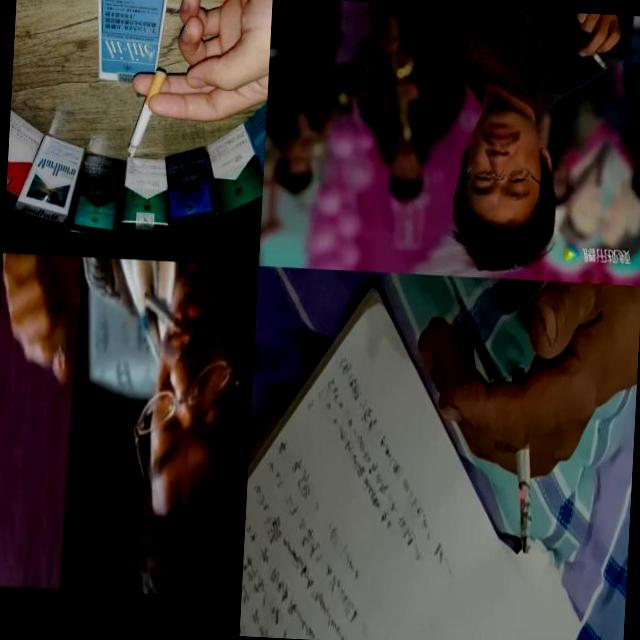smoke: (502, 368, 542, 554), (126, 68, 167, 160), (140, 286, 187, 335), (585, 41, 609, 77)
